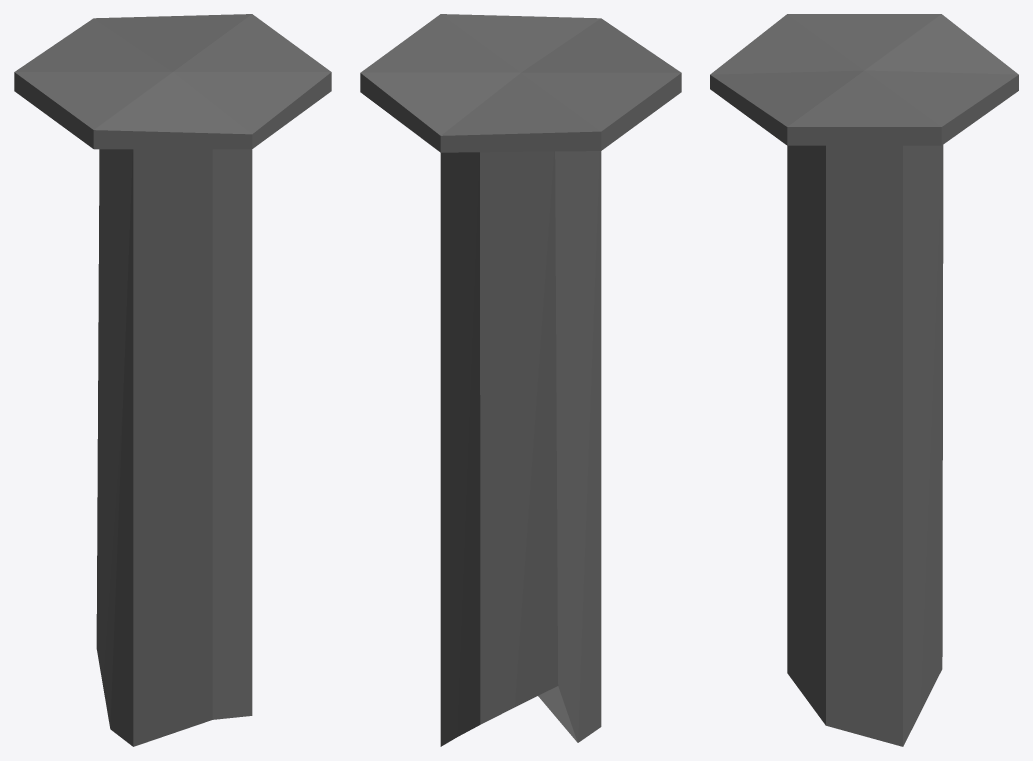
The model's file is nail_3_top.FBX.
3 views of the same model, side by side, from view 1: azimuth 30°, elevation 25°; view 2: azimuth 150°, elevation 25°; view 3: azimuth 270°, elevation 25° (orthographic). The views are drawn at different scales.
Parts seen in each view (by area): view 1: nail_low_poly_3_t; view 2: nail_low_poly_3_t; view 3: nail_low_poly_3_t.
Part boxes in pixels (bbox=[...]): nail_low_poly_3_t: bbox=[14, 14, 331, 746]; nail_low_poly_3_t: bbox=[360, 14, 681, 746]; nail_low_poly_3_t: bbox=[710, 14, 1018, 746].
Bounding box in the file's own units: 10.23 × 27.35 × 11.81.
